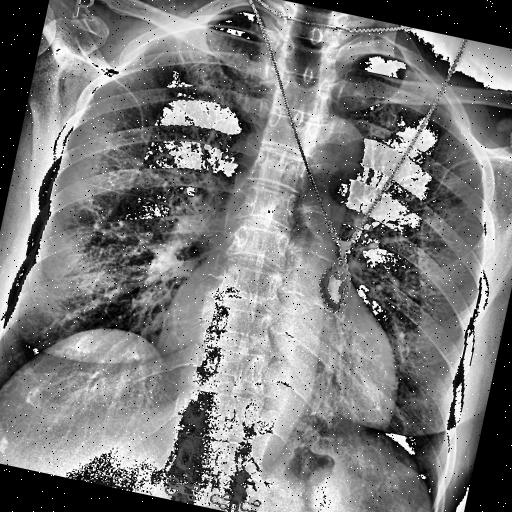0- Aortic enlargement: (308, 113, 372, 182)
11- Pleural thickening: (209, 0, 278, 31)
3- Cardiomegaly: (142, 286, 418, 446), (146, 274, 408, 438), (148, 307, 406, 432)
